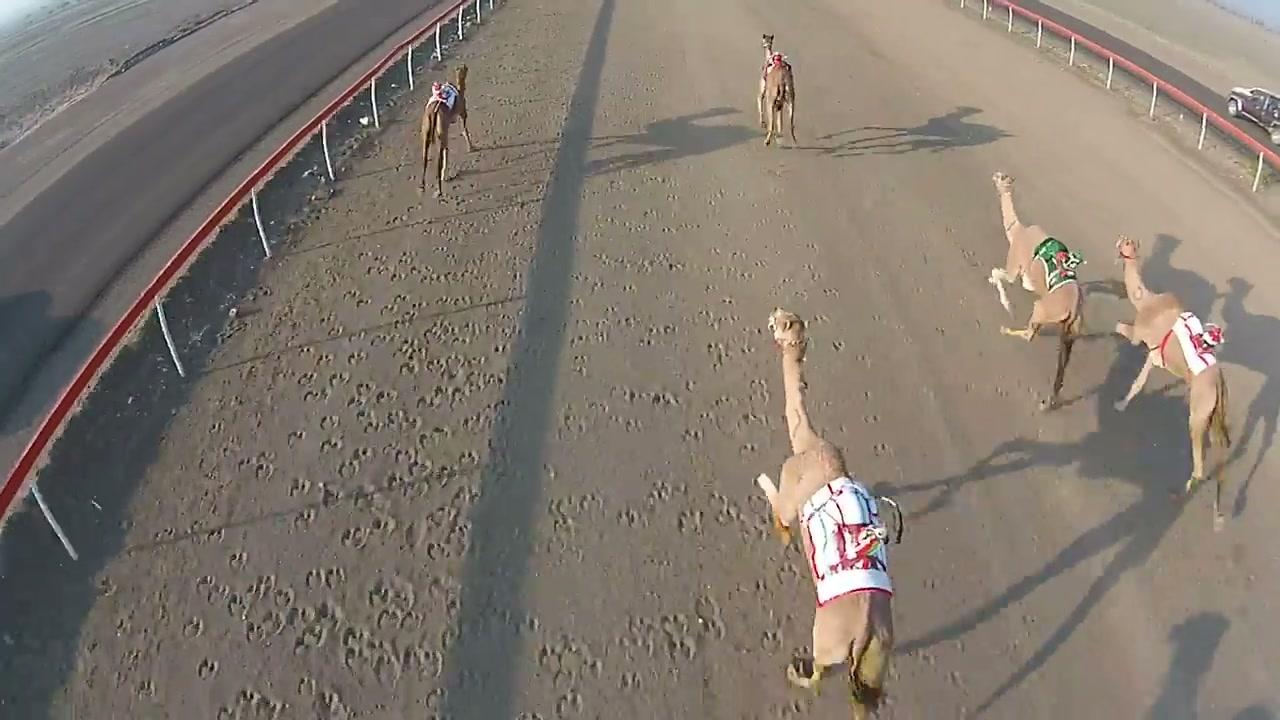animal_foot_print: (180, 167, 522, 719), (519, 166, 795, 711), (762, 144, 982, 709)
